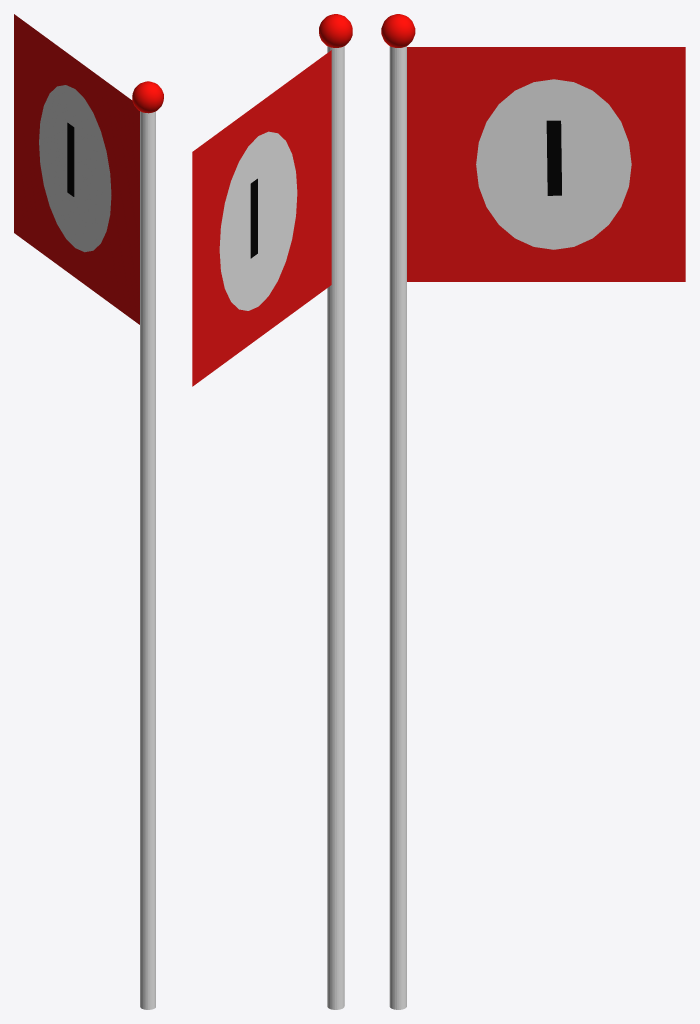
File: Flag 1 rigtig.fbx
3 views of the same model, side by side, from view 1: azimuth 30°, elevation 25°; view 2: azimuth 150°, elevation 25°; view 3: azimuth 270°, elevation 25° (orthographic). The views are drawn at different scales.
Visible parts, largest first — view 1: Plane, Cylinder, Circle, Sphere, 1; view 2: Plane, Cylinder, Circle, Sphere, 1; view 3: Plane, Circle, Cylinder, 1.001, Sphere.
Boxes of the visible parts, x1,y1,x2,y2 form: Plane: (14,14,139,324); Cylinder: (140,111,155,1009); Circle: (39,85,111,252); Sphere: (132,81,163,113); 1: (67,122,74,196); Plane: (192,50,331,386); Cylinder: (327,46,344,1009); Circle: (219,131,297,310); Sphere: (319,14,352,47); 1: (250,178,257,258); Plane: (407,47,685,281); Circle: (476,79,631,249); Cylinder: (389,46,406,1009); 1.001: (546,120,561,195); Sphere: (381,14,415,47).
Size of the model in its own units: 3.94 by 127 by 35.22.
